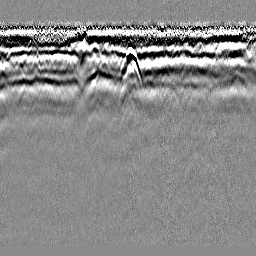cavity: (119, 44, 145, 87)
